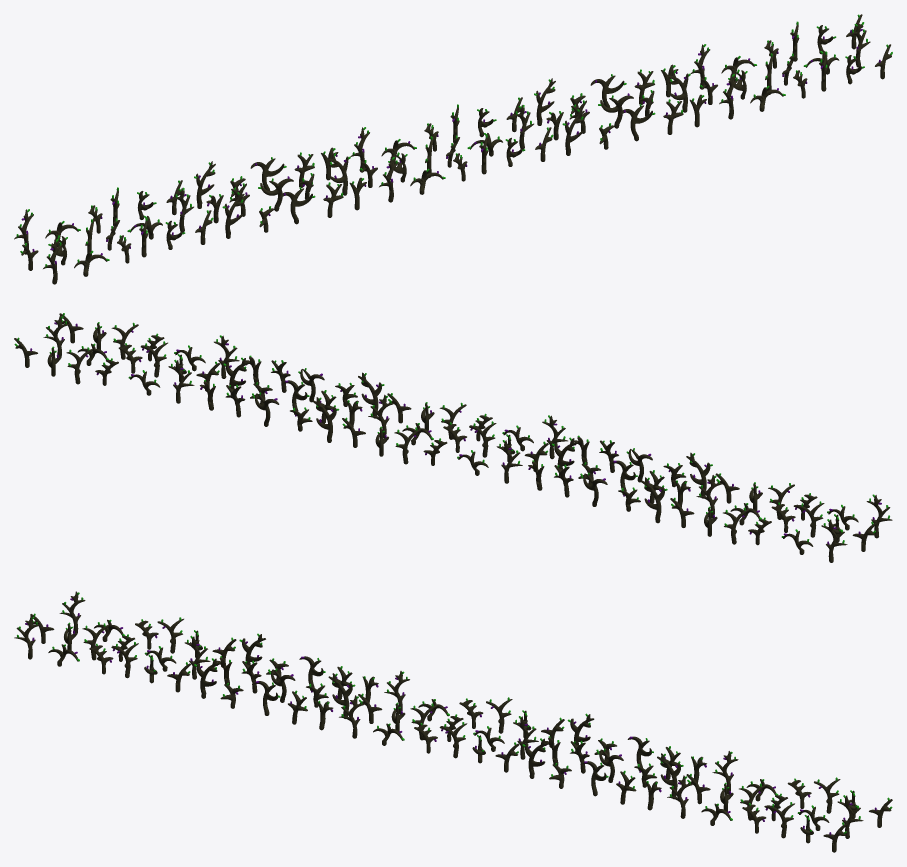
Rendered from f_trees.gltf.
3 renders of one model, top to bottom at view 1: azimuth 30°, elevation 25°; view 2: azimuth 150°, elevation 25°; view 3: azimuth 330°, elevation 25°, orthographic. The views are drawn at different scales.
Bounding box in the file's own units: 104 × 5.17 × 10.81.
